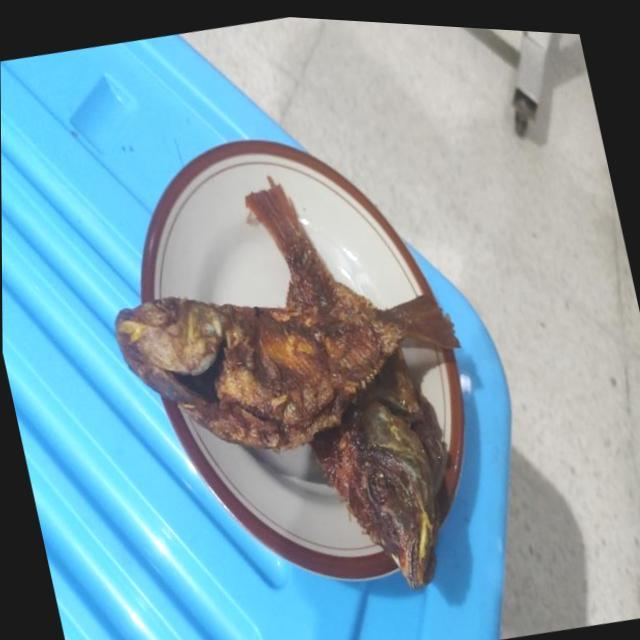ikan_mujair: (247, 181, 443, 590), (116, 296, 457, 450)
